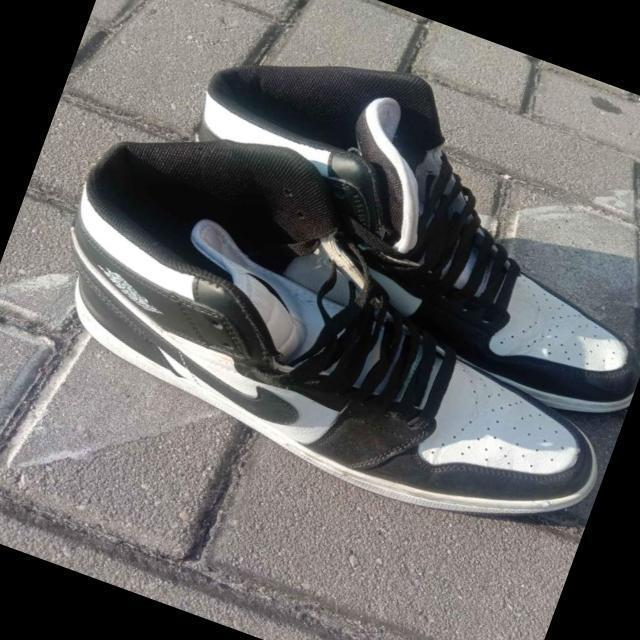nike fake jordan 1: (13, 81, 640, 565), (139, 7, 640, 432)
